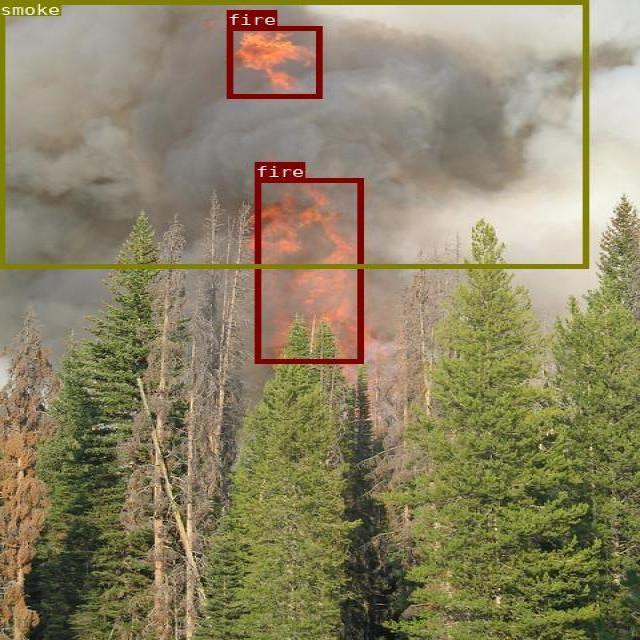fire: (255, 177, 363, 363), (226, 26, 321, 97)
smoke: (0, 0, 587, 268)
